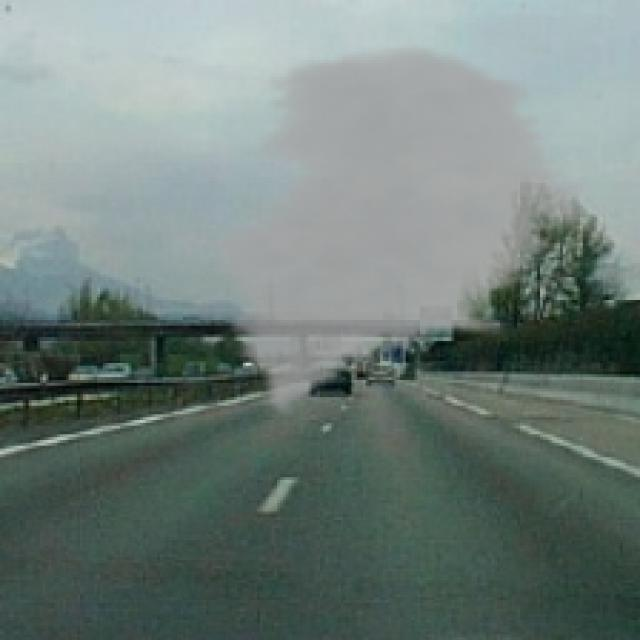smoke: (200, 40, 594, 417)
